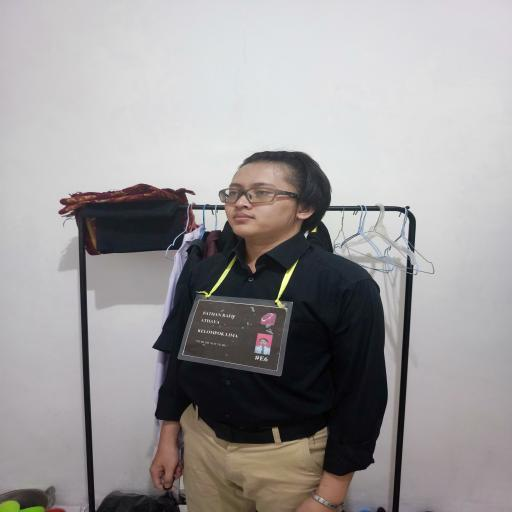celana_salah: (179, 429, 339, 512)
kemeja_salah: (144, 252, 397, 425)
nametag_ada: (182, 262, 302, 378)
sabuk_ada: (188, 412, 337, 447)
